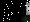person: (27, 3, 30, 16)
